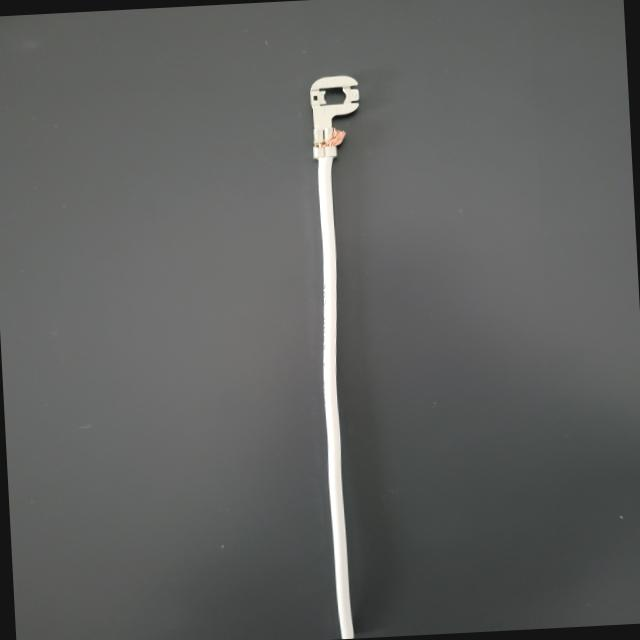defect: (275, 113, 366, 182)
